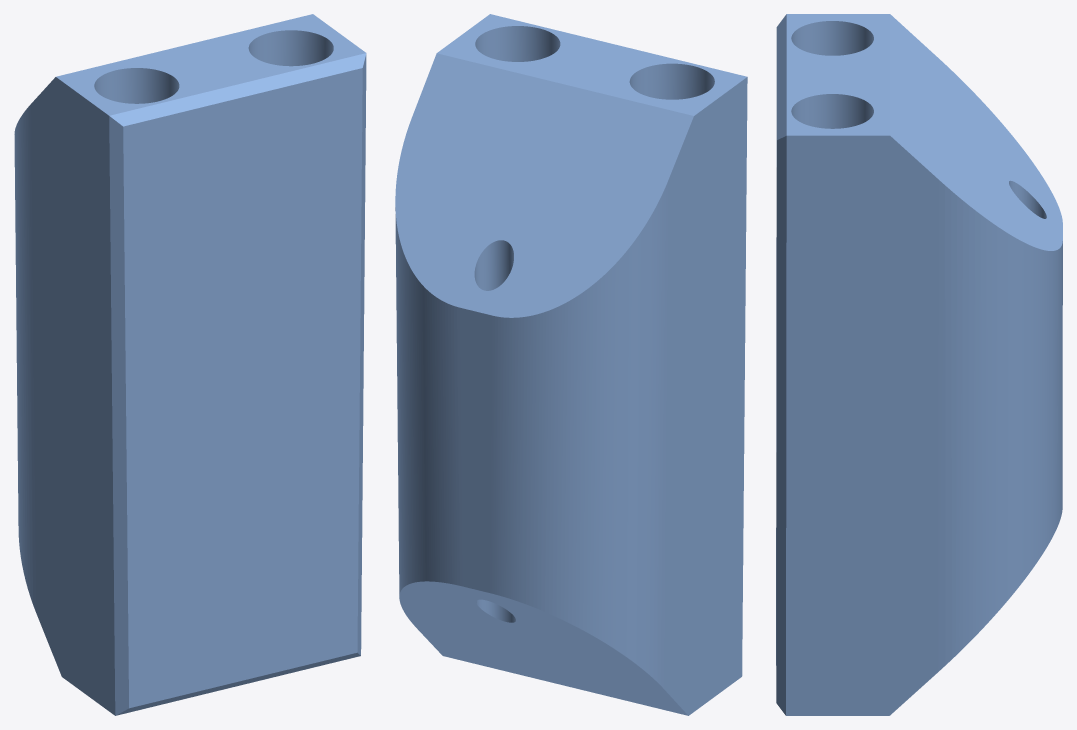
The model's file is dedo_cordial_1.dae.
The picture shows the model from 3 angles, left to right: view 1: azimuth 30°, elevation 25°; view 2: azimuth 150°, elevation 25°; view 3: azimuth 270°, elevation 25°; orthographic projection. The views are drawn at different scales.
Parts seen in each view (by area): view 1: Fingerdesign-All-2.008; view 2: Fingerdesign-All-2.008; view 3: Fingerdesign-All-2.008.
Part boxes in pixels (x1,y1,x2,y2): Fingerdesign-All-2.008: [14, 14, 366, 715]; Fingerdesign-All-2.008: [395, 14, 747, 715]; Fingerdesign-All-2.008: [776, 14, 1062, 715].
Size of the model in its own units: 0.015 by 0.0149 by 0.0335.
